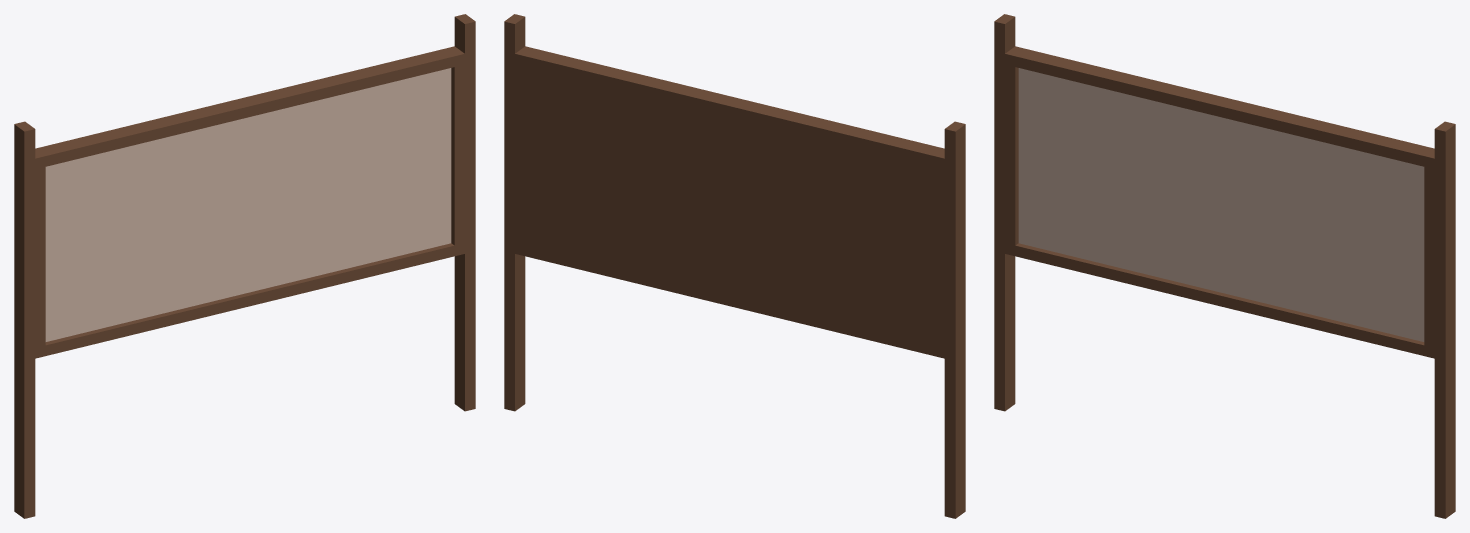
Rendered from Letrero 1.fbx.
3 renders of one model, left to right at view 1: azimuth 30°, elevation 25°; view 2: azimuth 150°, elevation 25°; view 3: azimuth 330°, elevation 25°, orthographic.
Visible parts, largest first — view 1: Letrero; view 2: Letrero; view 3: Letrero.
Boxes of the visible parts, <box> form: Letrero: <box>14,14,475,518</box>; Letrero: <box>504,14,965,518</box>; Letrero: <box>994,14,1455,518</box>.
Bounding box in the file's own units: 488 × 400 × 19.25.
